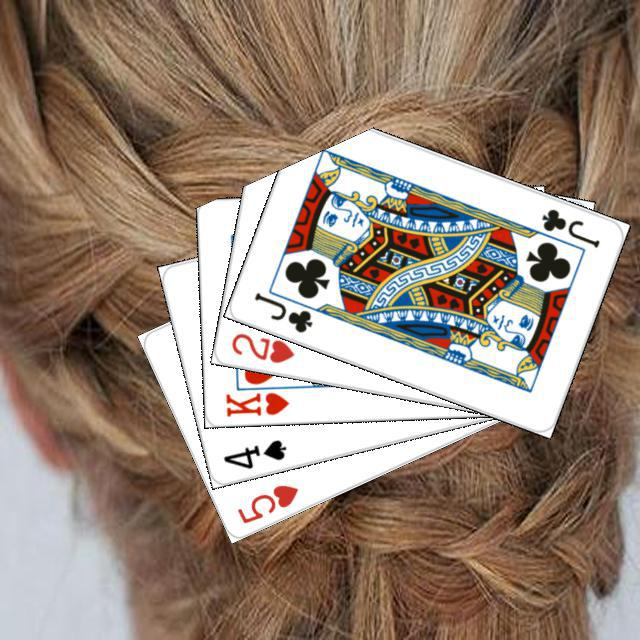2h: (226, 328, 296, 365)
4s: (218, 434, 288, 471)
5h: (232, 479, 300, 525)
Jc: (249, 287, 314, 335), (536, 204, 602, 250)
Kh: (221, 380, 296, 418)
